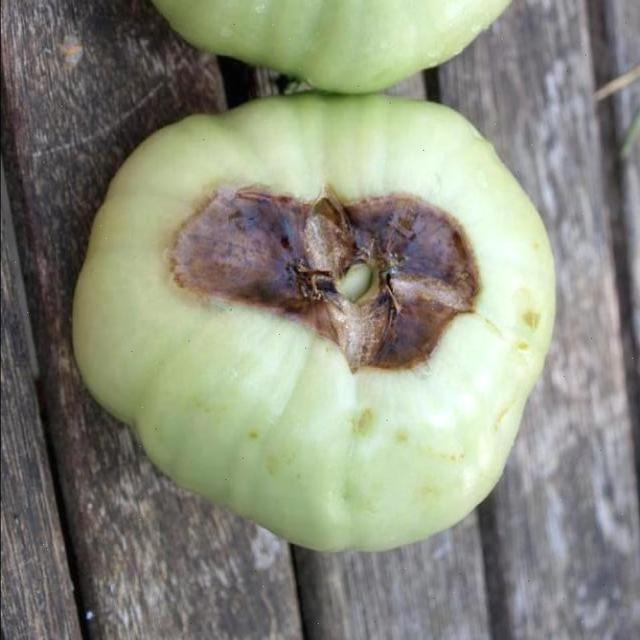Blossom End Rot Fruit: (109, 122, 326, 249)
